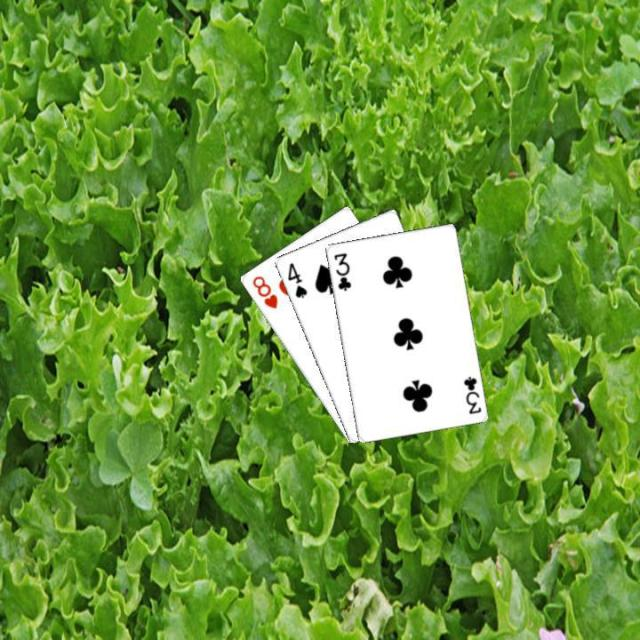3C: (330, 249, 353, 292), (460, 372, 482, 416)
4S: (284, 258, 308, 300)
8H: (248, 271, 279, 311)
